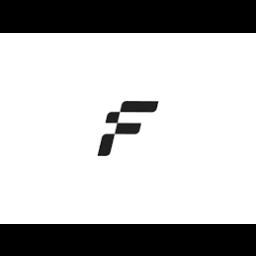f: (95, 94, 167, 164)
